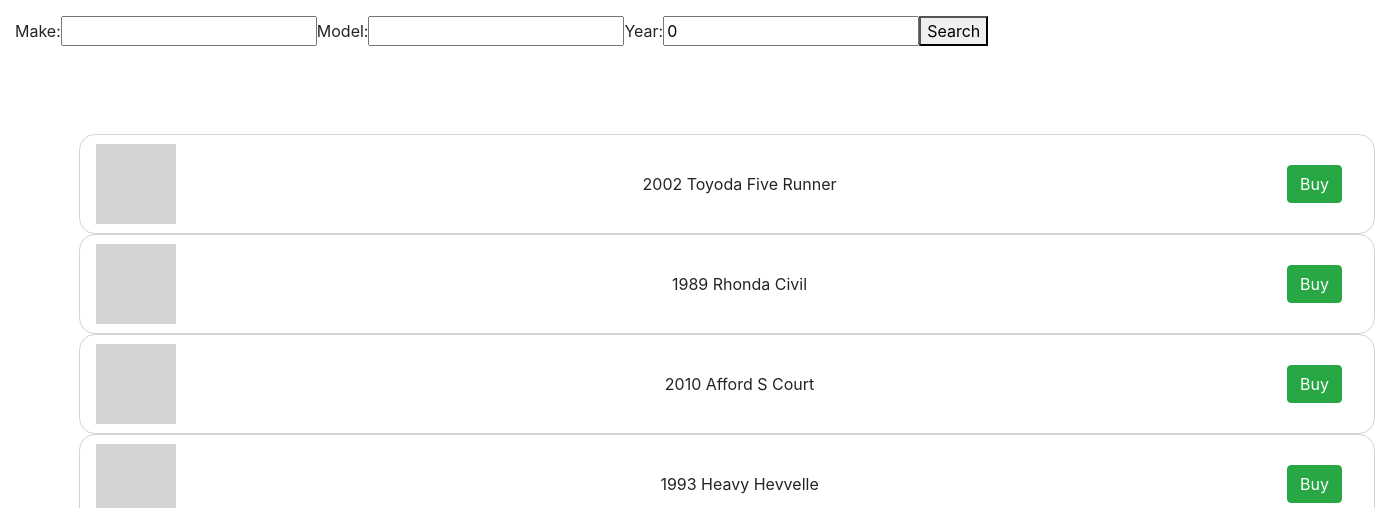
Test: Search › should limit list to year searched for
Replace the text in the field with test id "year-search" with "89" at (791, 31), box [663,16,919,46]
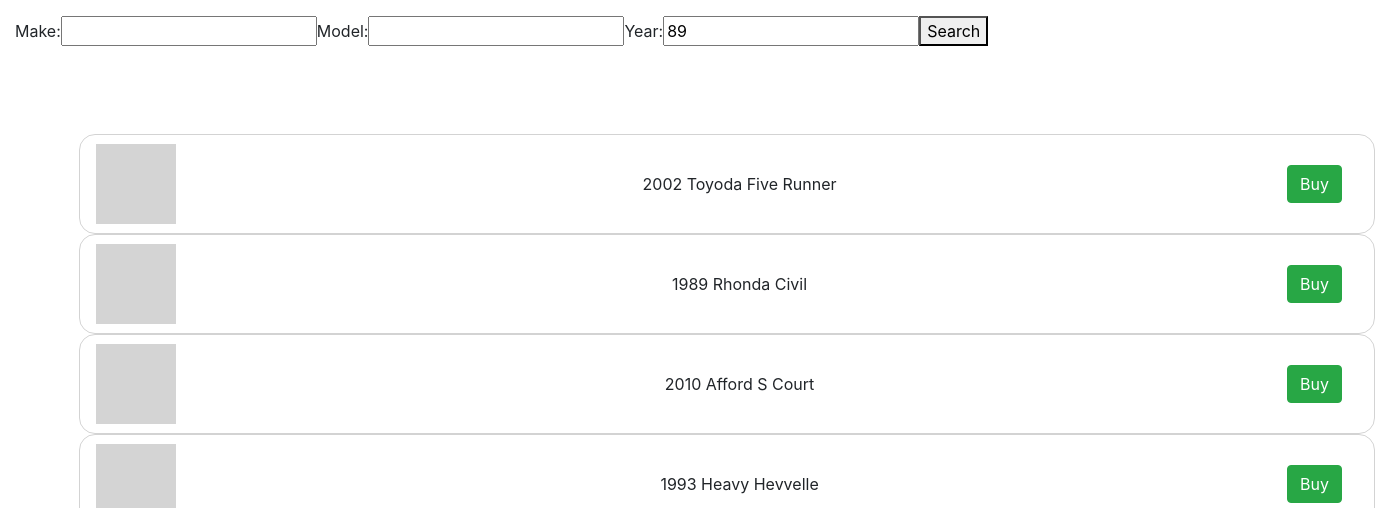
Click the button "Search" at (954, 31), box [919,16,988,46]
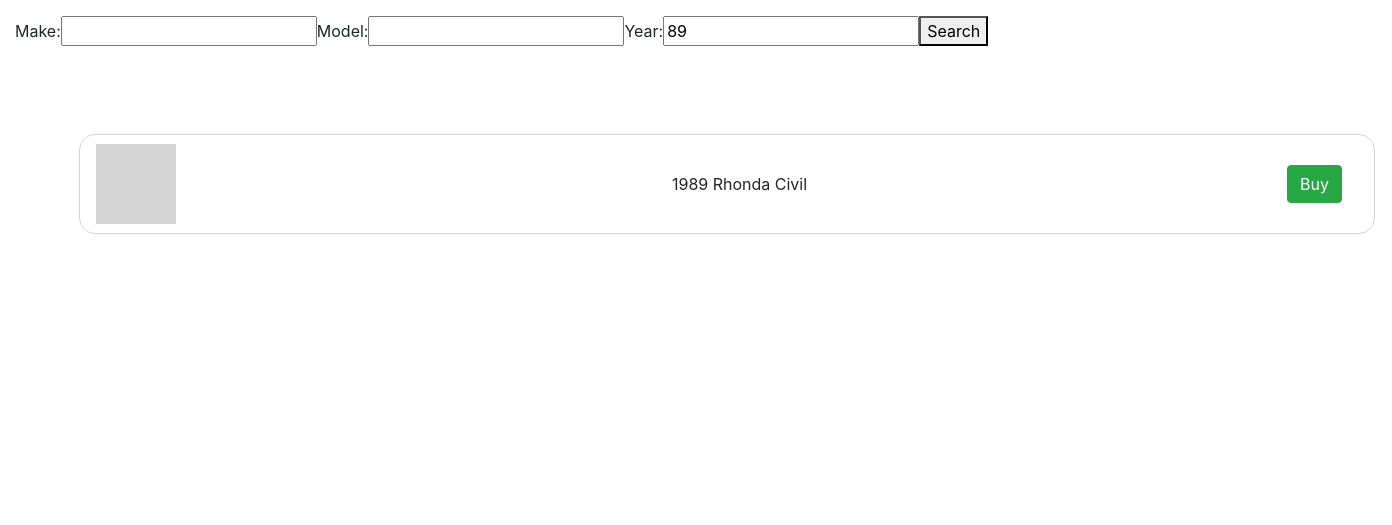
expect the number of elements with test id "list-item" is 1: met, box [79,134,1375,234]
